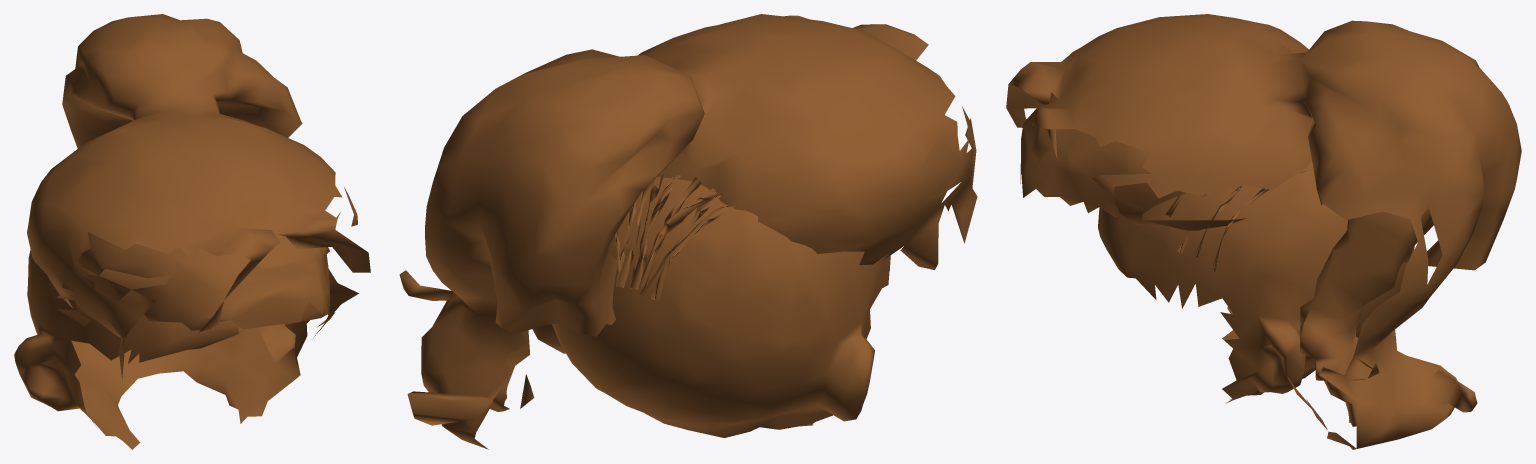
File: high-ponytail.glb
The picture shows the model from 3 angles, left to right: view 1: azimuth 30°, elevation 25°; view 2: azimuth 150°, elevation 25°; view 3: azimuth 270°, elevation 25°; orthographic projection. The views are drawn at different scales.
Parts seen in each view (by area): view 1: Hair, HairScalp; view 2: Hair, HairScalp, HairPulledRootStrands; view 3: Hair, HairScalp, HairPulledRootStrands.
Boxes of the visible parts, x1,y1,x2,y2 form: Hair: (27, 14, 370, 380); HairScalp: (14, 250, 330, 449); Hair: (399, 14, 977, 449); HairScalp: (532, 177, 890, 437); HairPulledRootStrands: (615, 174, 735, 301); Hair: (1006, 14, 1521, 449); HairScalp: (1098, 161, 1414, 403); HairPulledRootStrands: (1165, 167, 1313, 271).
Size of the model in its own units: 0.597 by 0.5166 by 0.6781.
